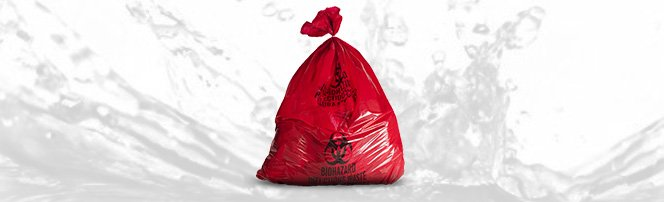plastic_bagwdw: (230, 1, 436, 190)
